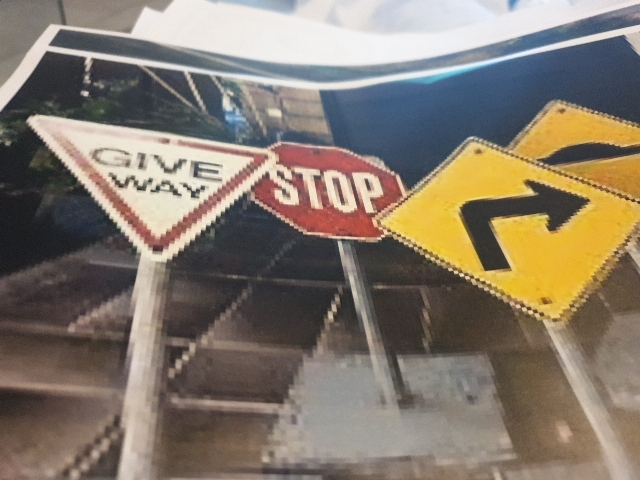giveway: (46, 118, 245, 245)
right: (418, 155, 623, 307)
stop: (264, 143, 392, 233)
